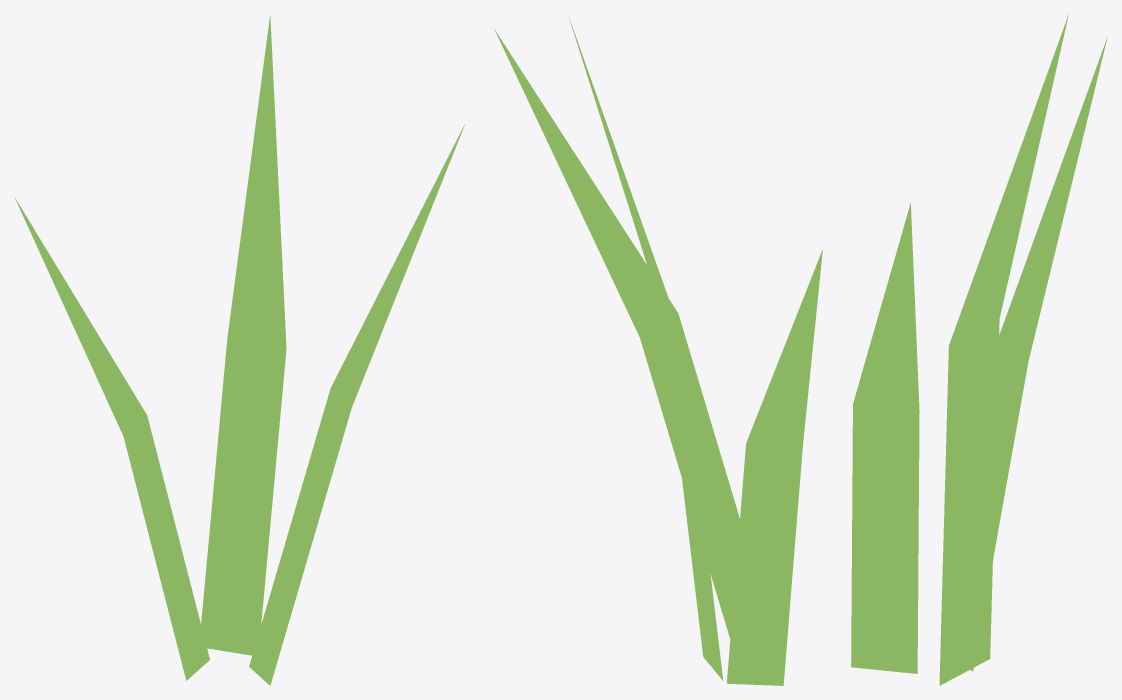
File: Grass_b_TwoS_02.fbx
The picture shows the model from 3 angles, left to right: view 1: azimuth 30°, elevation 25°; view 2: azimuth 150°, elevation 25°; view 3: azimuth 270°, elevation 25°; orthographic projection. The views are drawn at different scales.
Visible parts, largest first — view 1: Grass_b_TwoS_02; view 2: Grass_b_TwoS_02; view 3: Grass_b_TwoS_02.
Part boxes in pixels (left/top/right/bottom): Grass_b_TwoS_02: left=14, top=15, right=464, bottom=685; Grass_b_TwoS_02: left=494, top=16, right=822, bottom=685; Grass_b_TwoS_02: left=851, top=15, right=1107, bottom=685.
Size of the model in its own units: 0.2831 by 0.4348 by 0.1406.
